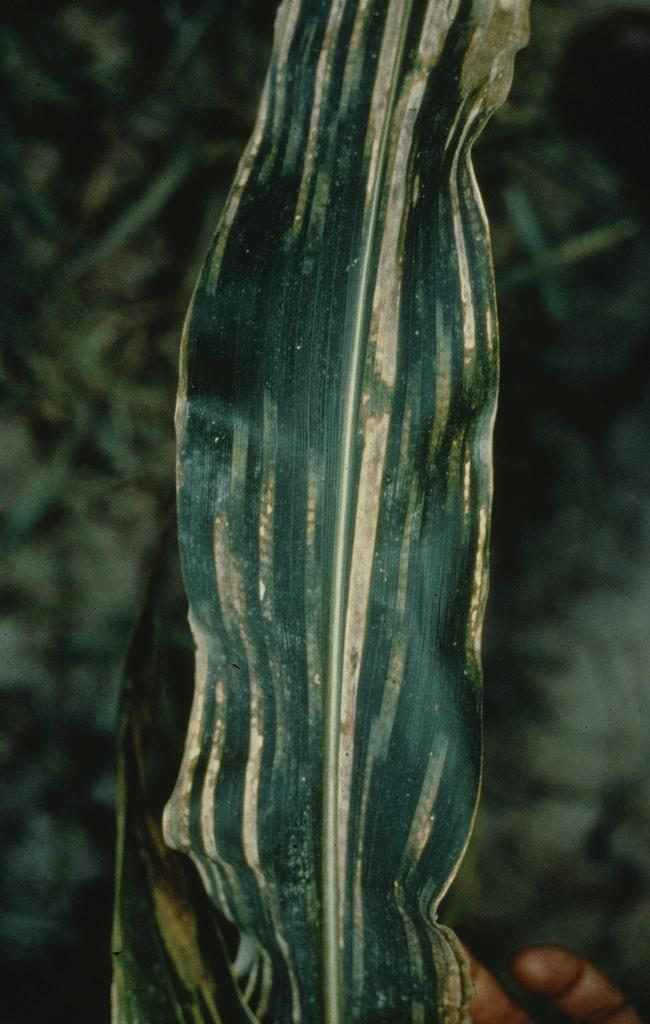Corn_Blight: (243, 0, 529, 502), (150, 514, 311, 1002), (407, 743, 485, 1014), (337, 525, 376, 996)
